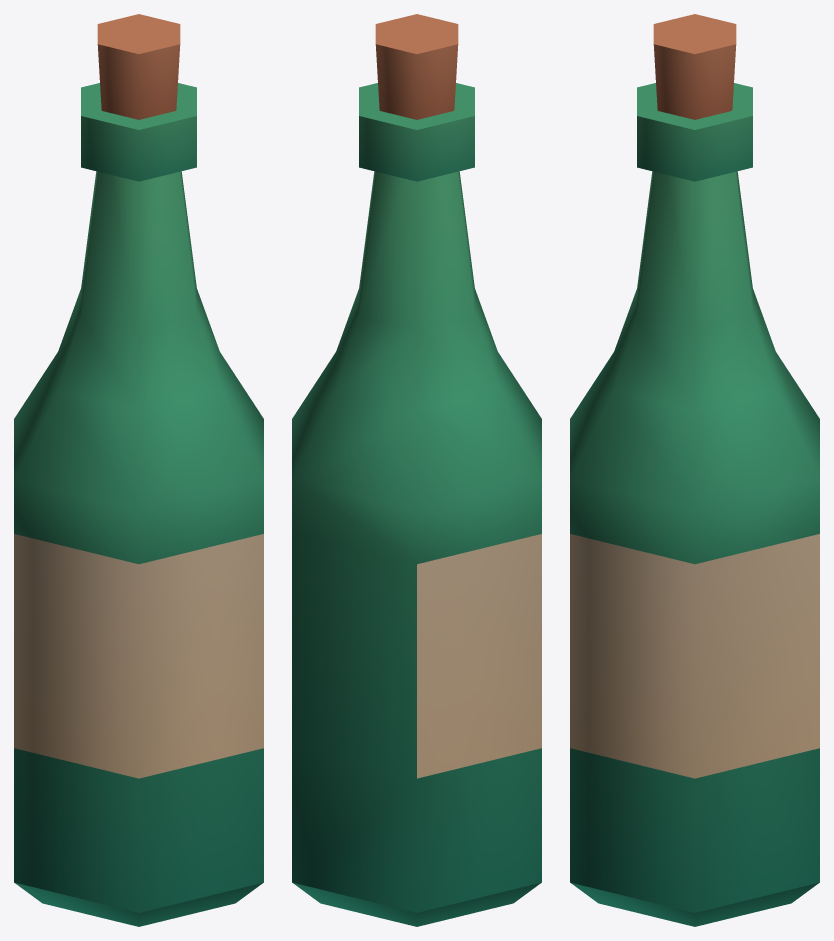
Rendered from wine-white.glb.
The picture shows the model from 3 angles, left to right: view 1: azimuth 30°, elevation 25°; view 2: azimuth 150°, elevation 25°; view 3: azimuth 270°, elevation 25°; orthographic projection.
Parts seen in each view (by area): view 1: wine-white; view 2: wine-white; view 3: wine-white.
Boxes of the visible parts, box(x1,y1,x2,y2) form: wine-white: box(14, 14, 263, 926); wine-white: box(292, 14, 541, 926); wine-white: box(570, 14, 819, 926).
Bounding box in the file's own units: 0.2028 × 0.6556 × 0.1756.
